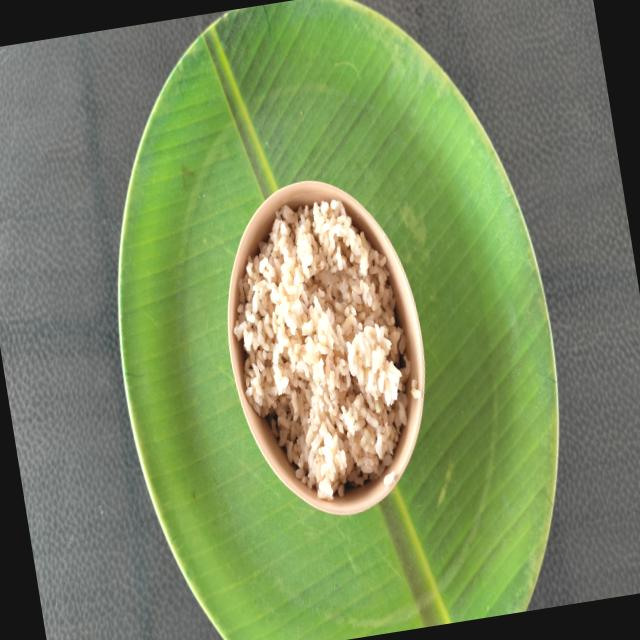brown-rice: (234, 200, 410, 500)
